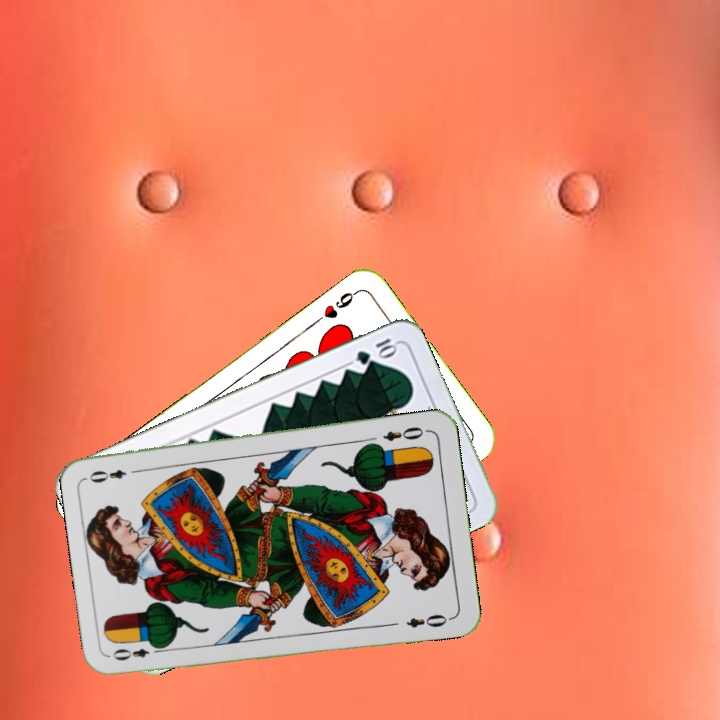EO: (108, 640, 166, 663), (379, 422, 431, 444)
G10: (352, 334, 400, 368)
H9: (310, 286, 361, 327)
